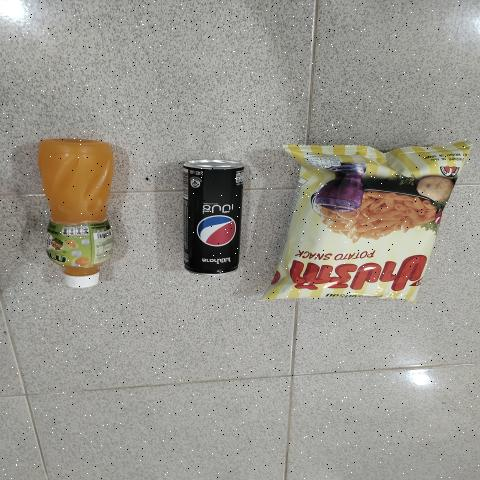paprika: (302, 156, 419, 297)
pepsi_black: (189, 166, 239, 272)
